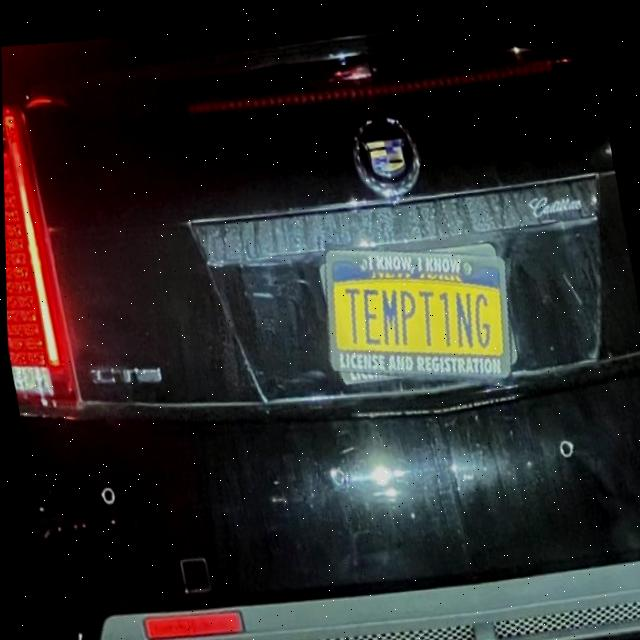LicensePlate: (324, 246, 512, 371)
